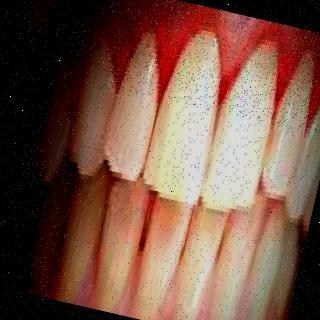Gum Swelling: (104, 22, 320, 95)
